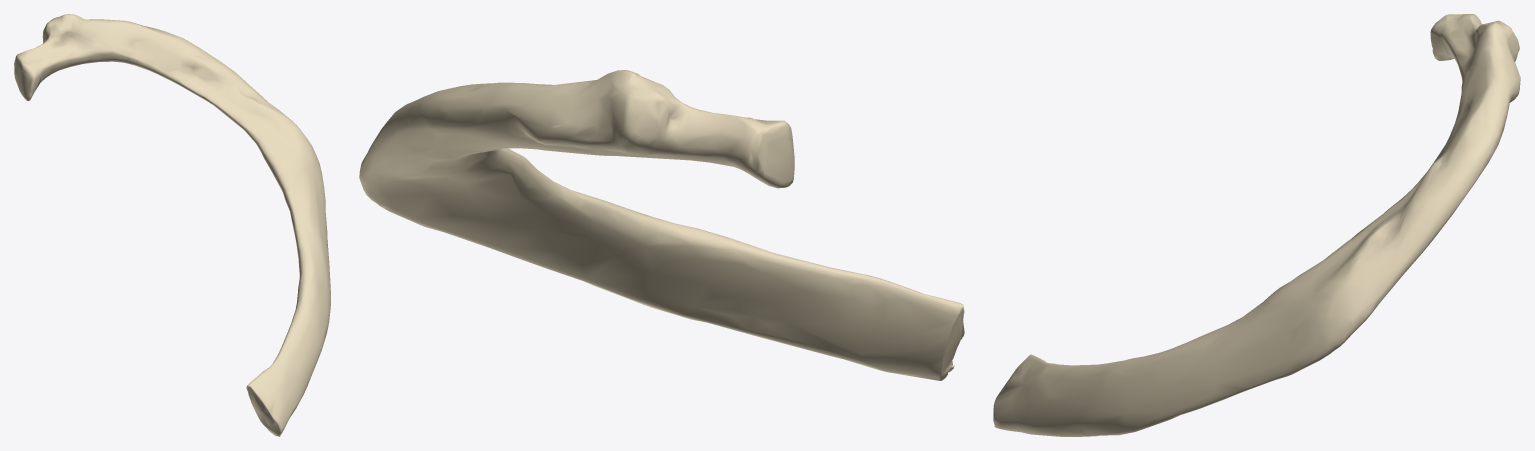
File: esqueleto-second-rib-l.glb
3 renders of one model, left to right at view 1: azimuth 30°, elevation 25°; view 2: azimuth 150°, elevation 25°; view 3: azimuth 270°, elevation 25°, orthographic. The views are drawn at different scales.
Parts seen in each view (by area): view 1: Second rib.l; view 2: Second rib.l; view 3: Second rib.l.
Part boxes in pixels (x1,y1,x2,y2): Second rib.l: (14,14,330,436); Second rib.l: (359,70,964,380); Second rib.l: (993,14,1520,436).
Size of the model in its own units: 0.0821 by 0.0913 by 0.1119.
